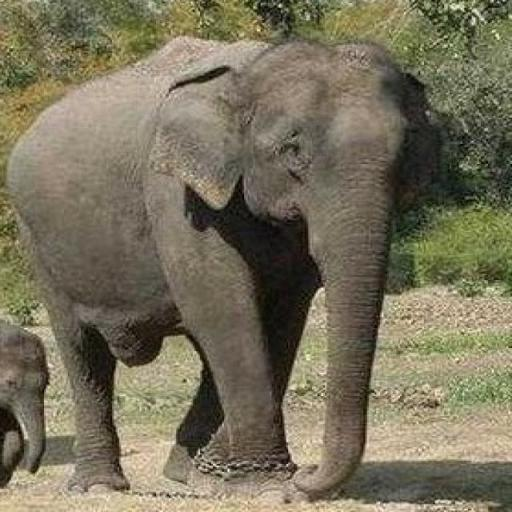Elephant: (2, 32, 442, 502), (0, 311, 50, 491)
